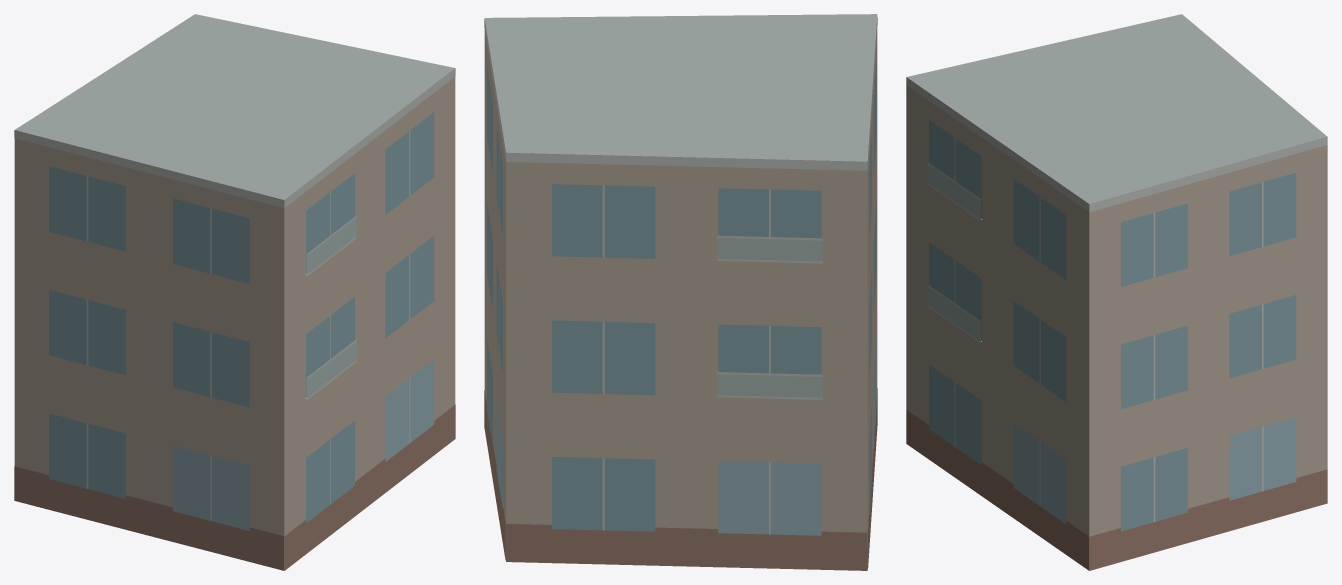
Rendered from survey-upis-32726176.glb.
3 renders of one model, left to right at view 1: azimuth 30°, elevation 25°; view 2: azimuth 150°, elevation 25°; view 3: azimuth 270°, elevation 25°, orthographic. The views are drawn at different scales.
Parts seen in each view (by area): view 1: survey-upis-32726176.tmp; view 2: survey-upis-32726176.tmp; view 3: survey-upis-32726176.tmp.
Boxes of the visible parts, box(x1,y1,x2,y2) form: survey-upis-32726176.tmp: box(14, 14, 455, 570); survey-upis-32726176.tmp: box(484, 14, 877, 570); survey-upis-32726176.tmp: box(906, 14, 1327, 570).
Size of the model in its own units: 12.19 by 10.95 by 11.41.
